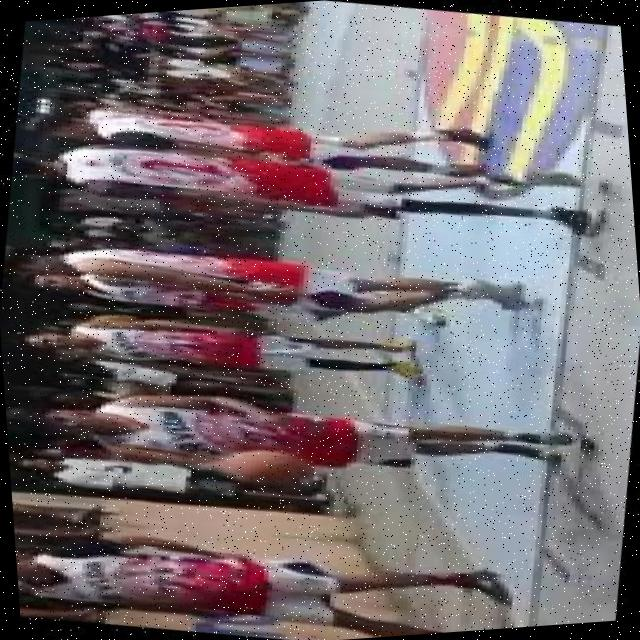ball: (212, 435, 324, 495)
